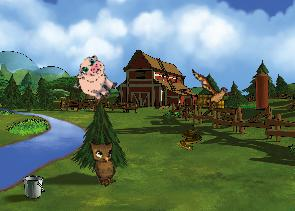eagle: (186, 69, 238, 112)
owl: (84, 134, 128, 188)
pig: (67, 51, 123, 107)
